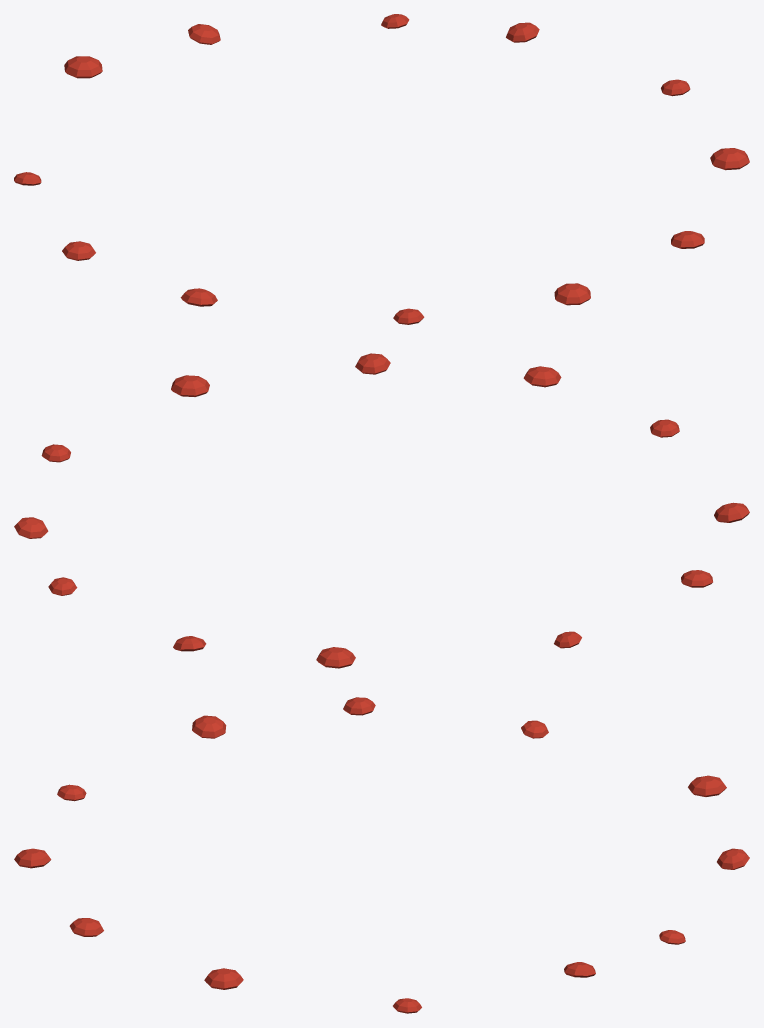
File: w2_fairyring.fbx
The picture shows the model from 3 angles, top to bottom: view 1: azimuth 30°, elevation 25°; view 2: azimuth 150°, elevation 25°; view 3: azimuth 270°, elevation 25°; orthographic projection. The views are drawn at different scales.
Visible parts, largest first — view 1: FairyRingCaps.Cap08, FairyRingCaps.Cap03, FairyRingCaps.Cap01, FairyRingCaps.Cap07, FairyRingCaps.Cap05, FairyRingCaps.Cap11; view 2: FairyRingCaps.Cap03, FairyRingCaps.Cap08, FairyRingCaps.Cap01, FairyRingCaps.Cap02, FairyRingCaps.Cap05, FairyRingCaps.Cap11; view 3: FairyRingCaps.Cap03, FairyRingCaps.Cap08, FairyRingCaps.Cap11, FairyRingCaps.Cap01, FairyRingCaps.Cap07.
Part boxes in pixels (left/top/right/bottom): FairyRingCaps.Cap08: left=64, top=56, right=102, bottom=78; FairyRingCaps.Cap03: left=710, top=148, right=749, bottom=170; FairyRingCaps.Cap01: left=554, top=283, right=590, bottom=305; FairyRingCaps.Cap07: left=188, top=24, right=220, bottom=44; FairyRingCaps.Cap05: left=506, top=22, right=539, bottom=42; FairyRingCaps.Cap11: left=180, top=288, right=217, bottom=306; FairyRingCaps.Cap03: left=171, top=375, right=209, bottom=396; FairyRingCaps.Cap08: left=316, top=647, right=355, bottom=668; FairyRingCaps.Cap01: left=523, top=366, right=561, bottom=387; FairyRingCaps.Cap02: left=355, top=353, right=390, bottom=374; FairyRingCaps.Cap05: left=14, top=517, right=48, bottom=538; FairyRingCaps.Cap11: left=714, top=502, right=749, bottom=522; FairyRingCaps.Cap03: left=204, top=968, right=243, bottom=989; FairyRingCaps.Cap08: left=688, top=775, right=726, bottom=796; FairyRingCaps.Cap11: left=192, top=715, right=226, bottom=738; FairyRingCaps.Cap01: left=14, top=848, right=51, bottom=868; FairyRingCaps.Cap07: left=717, top=848, right=749, bottom=869.
Size of the model in its own units: 11.25 by 0.4231 by 11.41.
